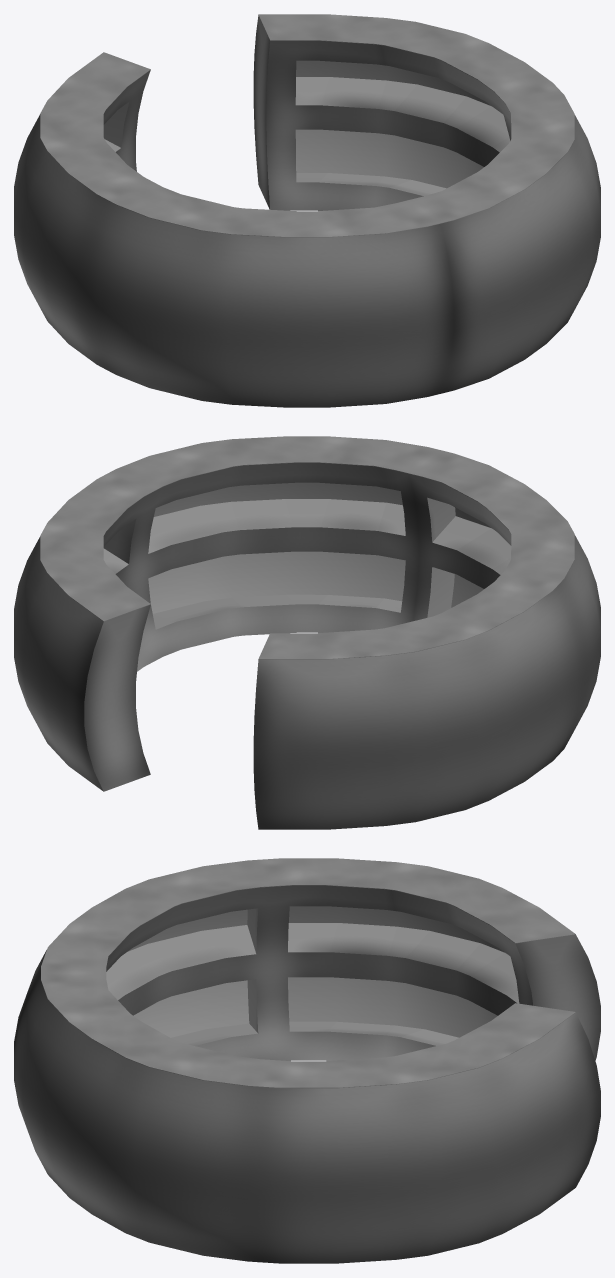
File: LedBar02.FBX
The picture shows the model from 3 angles, top to bottom: view 1: azimuth 30°, elevation 25°; view 2: azimuth 150°, elevation 25°; view 3: azimuth 270°, elevation 25°; orthographic projection. The views are drawn at different scales.
Visible parts, largest first — view 1: LedBar02L, LedBar02R; view 2: LedBar02R, LedBar02L; view 3: LedBar02R, LedBar02L.
Part boxes in pixels (x1,y1,x2,y2): LedBar02L: (14, 52, 453, 407); LedBar02R: (253, 14, 600, 393); LedBar02R: (14, 436, 440, 791); LedBar02L: (253, 450, 600, 829); LedBar02R: (14, 973, 600, 1263); LedBar02L: (14, 858, 600, 1060).
Size of the model in its own units: 369 by 120 by 364.
